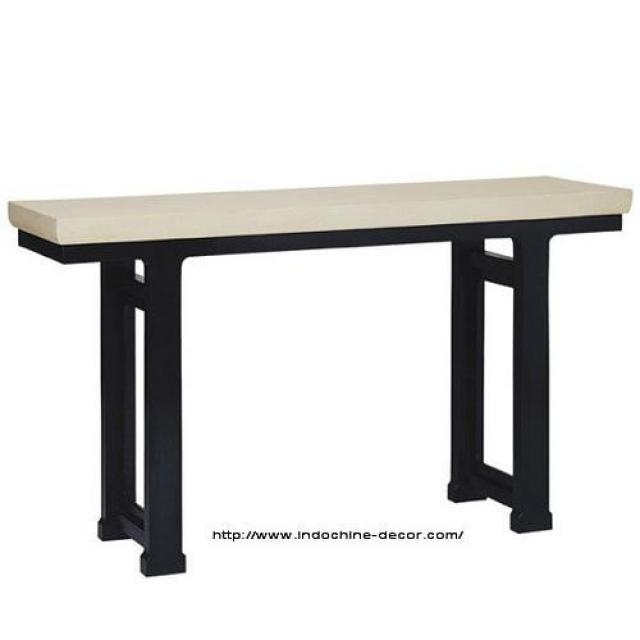table: (8, 175, 635, 580)
